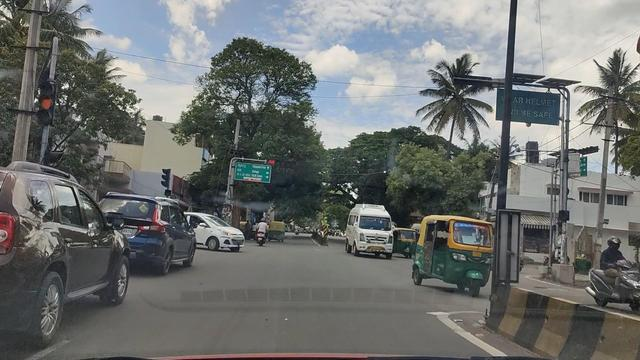LMV: (6, 167, 128, 348), (102, 184, 198, 275)
